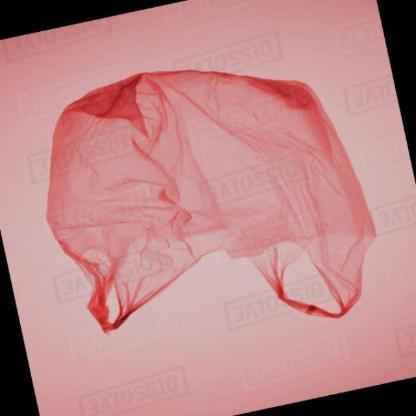Plastic Bag: (45, 68, 379, 336)
